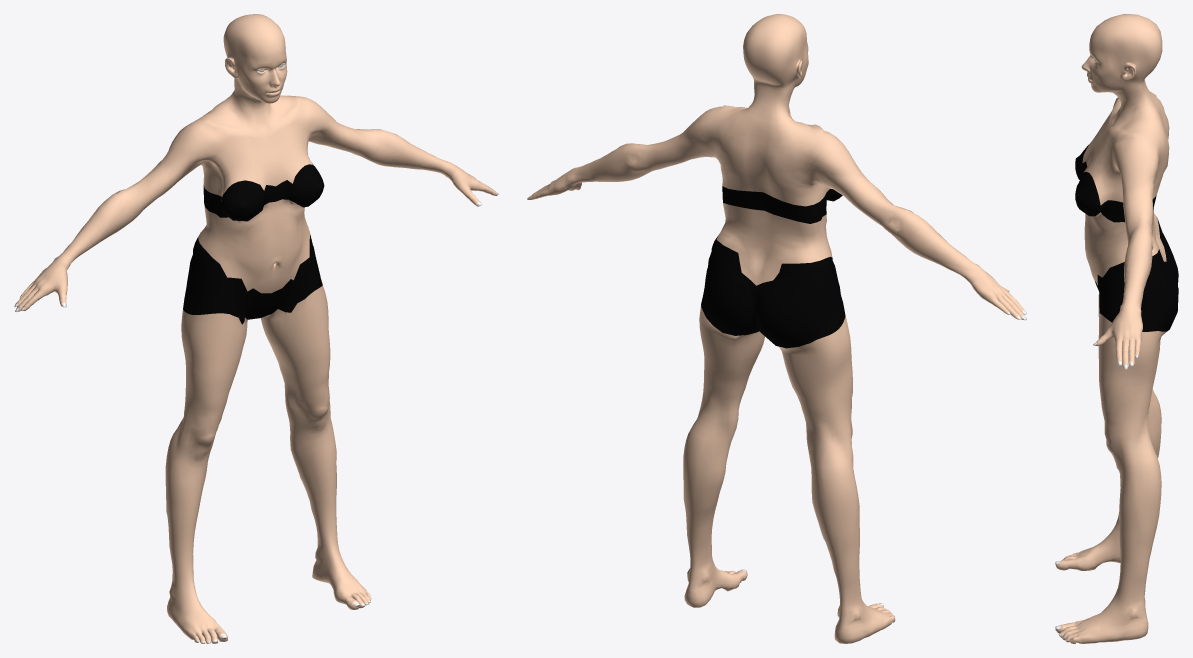
Rendered from Women_L.glb.
3 views of the same model, side by side, from view 1: azimuth 30°, elevation 25°; view 2: azimuth 150°, elevation 25°; view 3: azimuth 270°, elevation 25° (orthographic). The views are drawn at different scales.
Visible parts, largest first — view 1: f_ca01; view 2: f_ca01; view 3: f_ca01.
Part boxes in pixels (x1=…): f_ca01: x1=14, y1=14, x2=498, y2=643; f_ca01: x1=527, y1=14, x2=1026, y2=643; f_ca01: x1=1055, y1=14, x2=1178, y2=643.
Size of the model in its own units: 1.47 by 1.7 by 0.3241.
10 materials, 1 textured.
